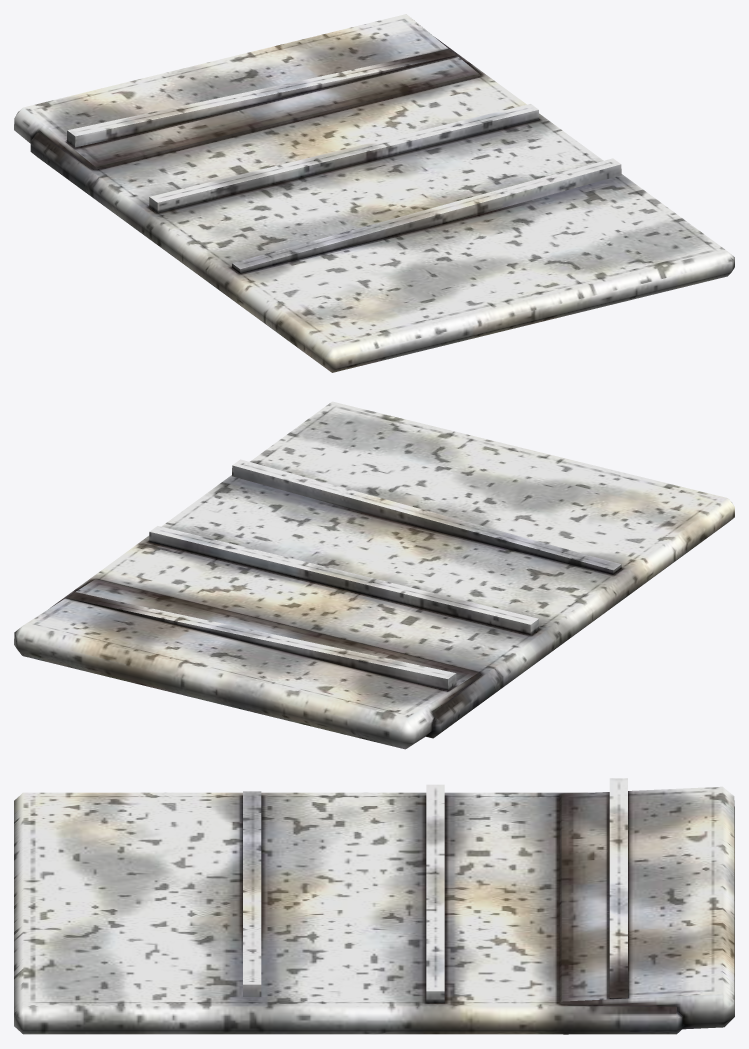
The model's file is colchao_manta.glb.
3 renders of one model, top to bottom at view 1: azimuth 30°, elevation 25°; view 2: azimuth 150°, elevation 25°; view 3: azimuth 270°, elevation 25°, orthographic. The views are drawn at different scales.
Visible parts, largest first — view 1: colchao_manta; view 2: colchao_manta; view 3: colchao_manta.
Boxes of the visible parts, <box> form: colchao_manta: <box>14,14,734,372</box>; colchao_manta: <box>14,401,734,749</box>; colchao_manta: <box>14,778,734,1034</box>.
Bounding box in the file's own units: 0.86 × 0.0896 × 1.18.
Materials: 1 (1 with a texture image).
